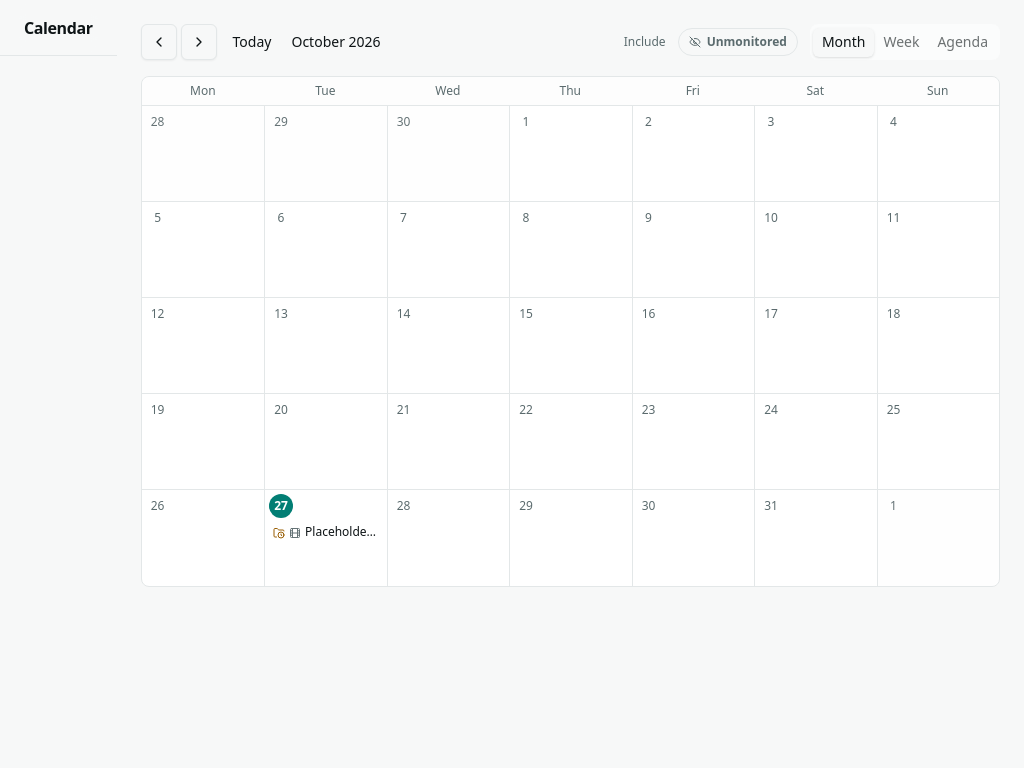
Test: CalendarPage › shows a deferred film as not imported, never as a batch
Expected: the link "Placeholder Legend" is shown, [269, 520, 382, 544]
Click the tab "Week". click: (901, 42)
box: [874, 28, 928, 56]
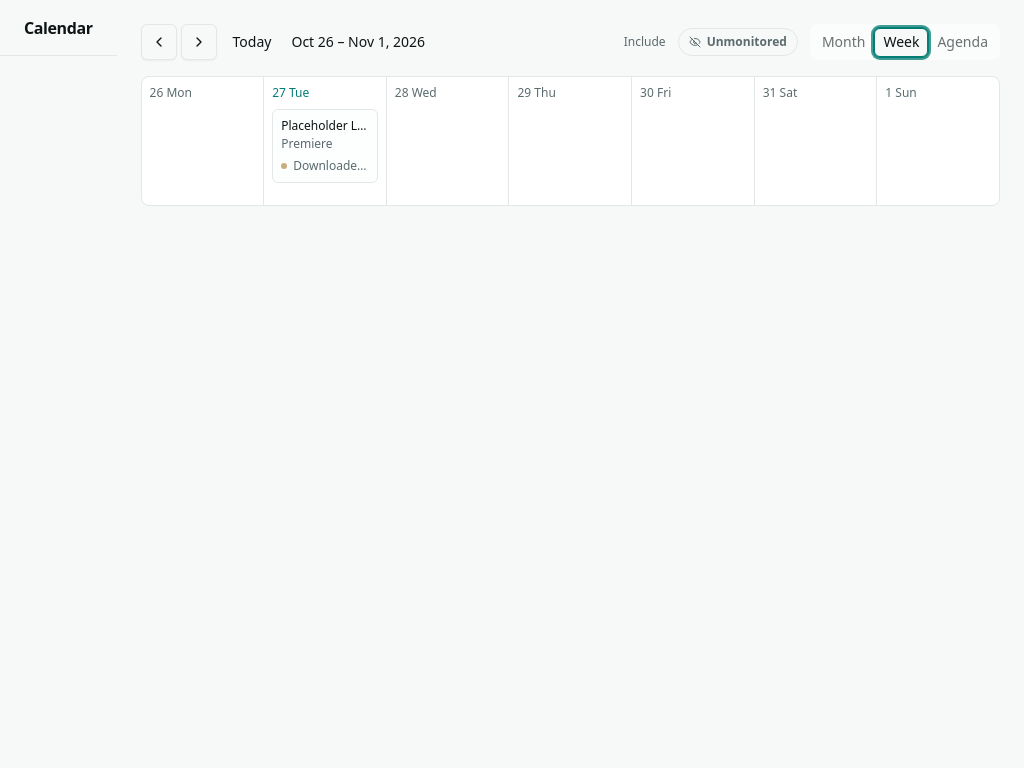
Expected: the link "Placeholder Legend Premiere Downloaded, not imported" does not show "Batch downloaded", [272, 109, 378, 183]
Now the link "Placeholder Legend Premiere Downloaded, not imported" is shown, box [272, 109, 378, 183]
Click the tab "Agenda". click: (963, 42)
box: [928, 28, 997, 56]
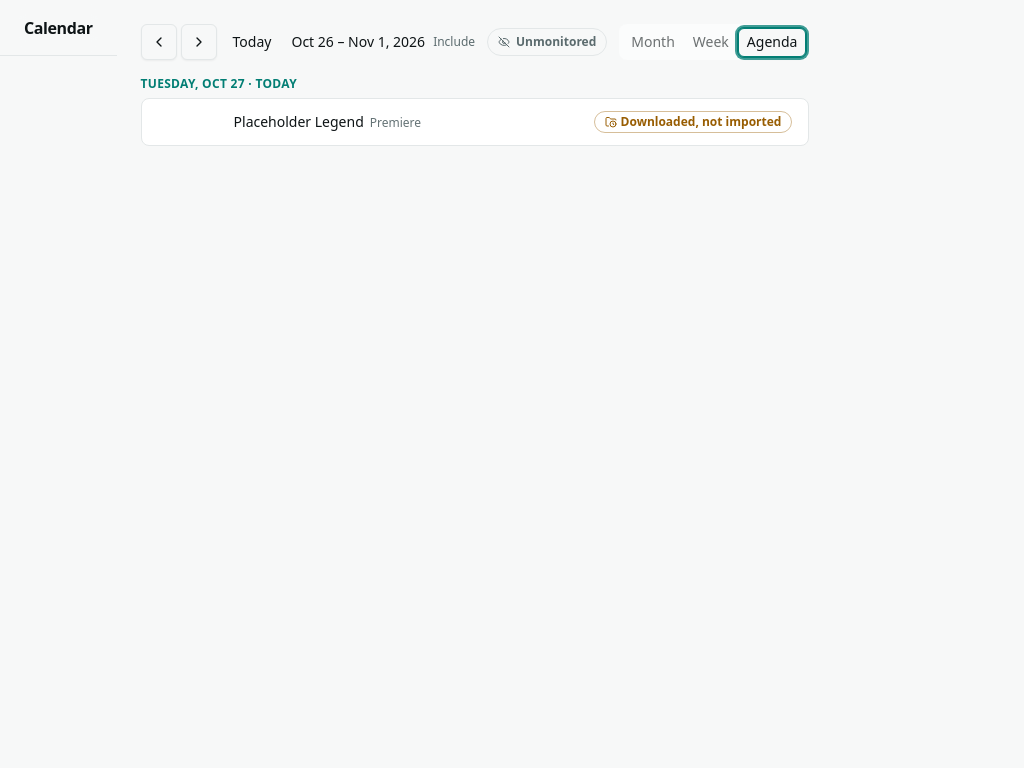
Expected: the link "Placeholder Legend" does not show "Batch downloaded", [234, 111, 792, 133]
Now the link "Placeholder Legend" shows "Downloaded, not imported", box [234, 111, 792, 133]
